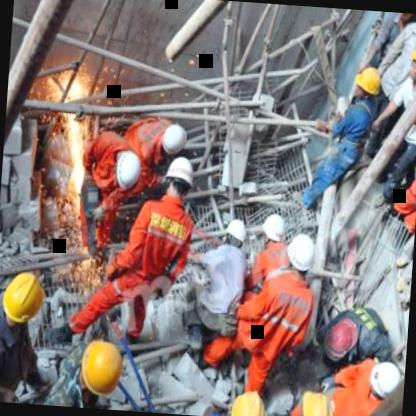helmet: (78, 336, 127, 402), (0, 266, 49, 331), (362, 357, 406, 405), (281, 230, 318, 279), (162, 154, 198, 203), (325, 314, 365, 358), (110, 147, 146, 191), (352, 64, 383, 108), (228, 385, 270, 416), (294, 388, 339, 416), (158, 124, 189, 164), (222, 214, 250, 258), (261, 209, 288, 253), (406, 40, 416, 86), (395, 13, 416, 22)
